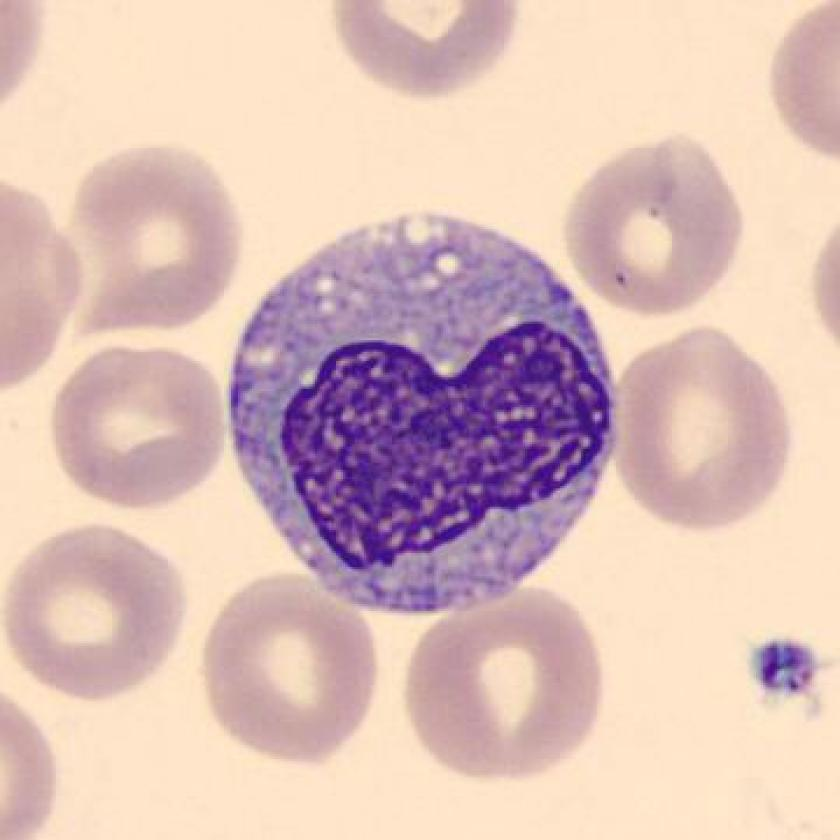monocyte: (211, 198, 631, 649)
